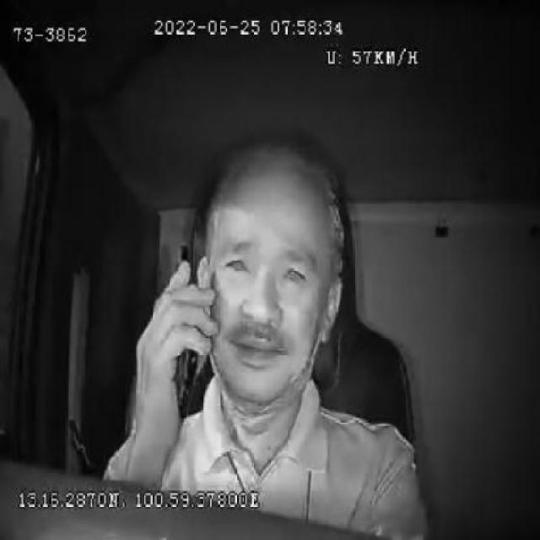phone: (170, 239, 204, 426)
